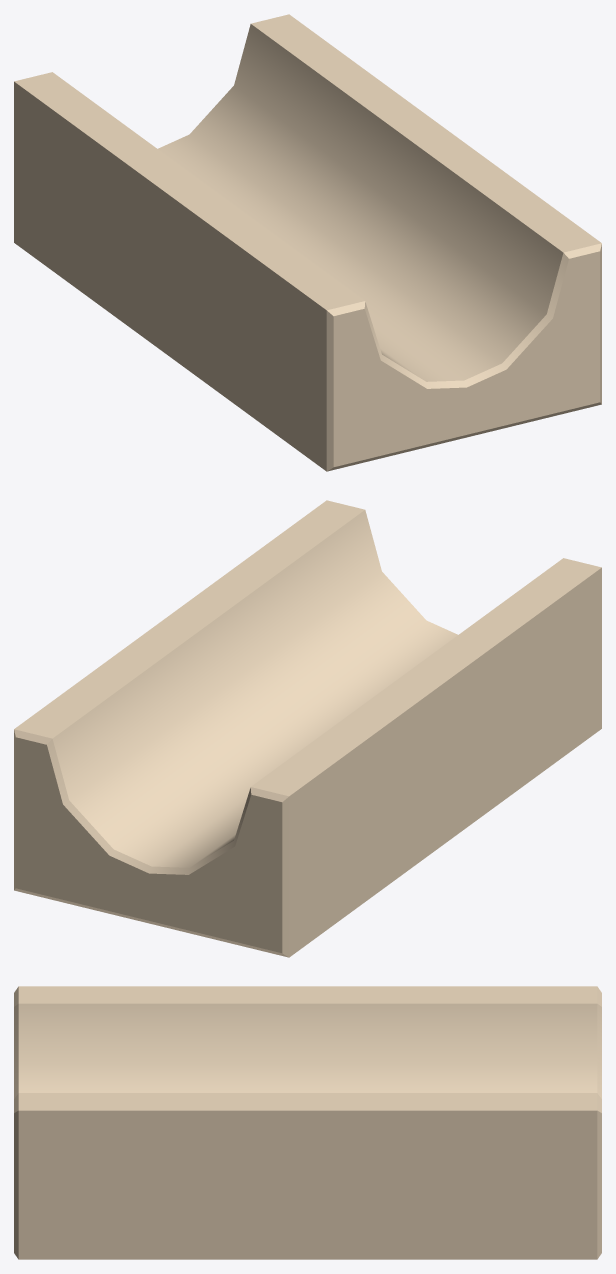
The model's file is track_straight_long_a03.glb.
3 views of the same model, one above another, from view 1: azimuth 30°, elevation 25°; view 2: azimuth 150°, elevation 25°; view 3: azimuth 270°, elevation 25° (orthographic). The views are drawn at different scales.
Parts seen in each view (by area): view 1: Straight - Long; view 2: Straight - Long; view 3: Straight - Long.
Boxes of the visible parts, x1,y1,x2,y2 form: Straight - Long: (14, 14, 601, 471); Straight - Long: (14, 500, 601, 957); Straight - Long: (14, 986, 601, 1259).
Size of the model in its own units: 2 by 1.12 by 4.
